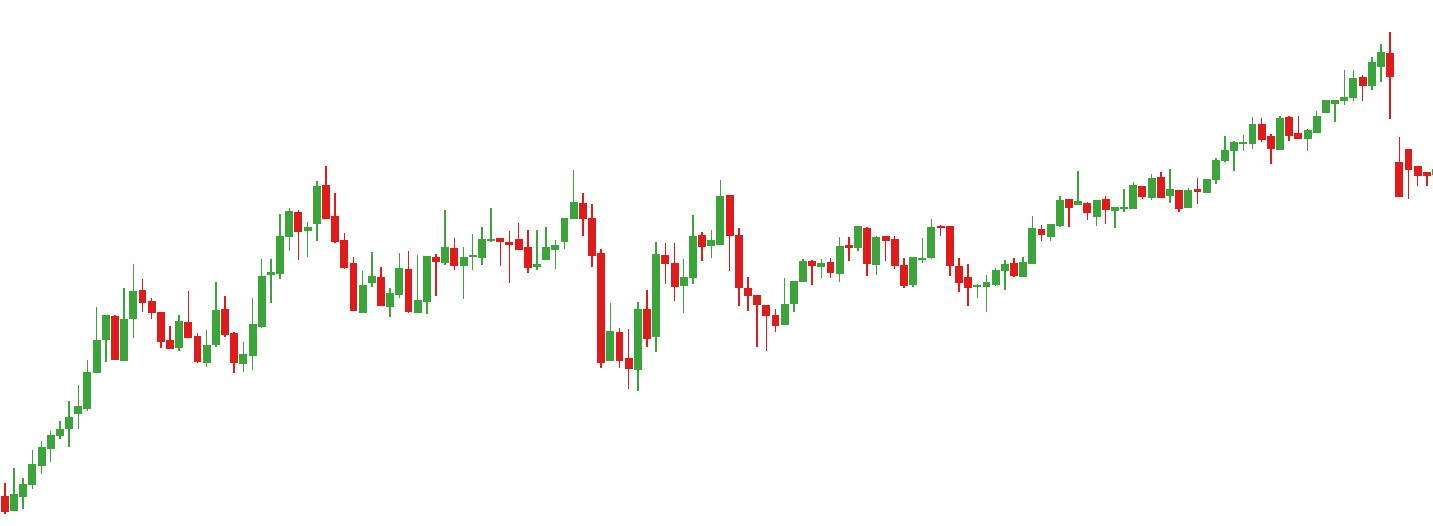buy: (667, 226, 790, 353), (901, 237, 991, 319), (193, 306, 249, 380)
sell: (487, 164, 589, 255)
